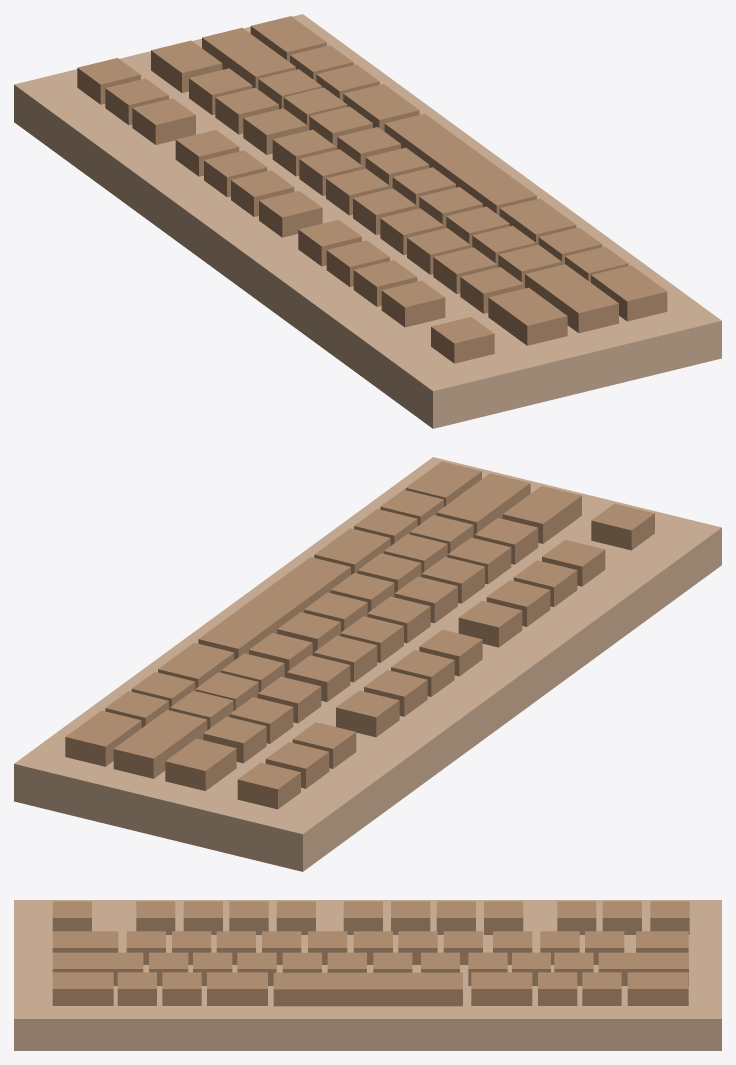
File: SM_ComputerKeyboard.fbx
3 renders of one model, top to bottom at view 1: azimuth 30°, elevation 25°; view 2: azimuth 150°, elevation 25°; view 3: azimuth 270°, elevation 25°, orthographic. The views are drawn at different scales.
Visible parts, largest first — view 1: SM_ComputerKeyboard; view 2: SM_ComputerKeyboard; view 3: SM_ComputerKeyboard.
Part boxes in pixels (<box>): SM_ComputerKeyboard: <box>14,14,721,428</box>; SM_ComputerKeyboard: <box>14,457,721,871</box>; SM_ComputerKeyboard: <box>14,900,721,1050</box>.
Bounding box in the file's own units: 0.2369 × 0.0453 × 0.5952.
1 material, 1 textured.
